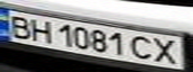0: (69, 24, 93, 51)
1: (106, 29, 130, 56), (51, 20, 75, 47)
8: (90, 27, 109, 54)
B: (3, 12, 36, 39)
C: (127, 33, 157, 62)
H: (27, 16, 54, 44)
X: (148, 35, 184, 66)
